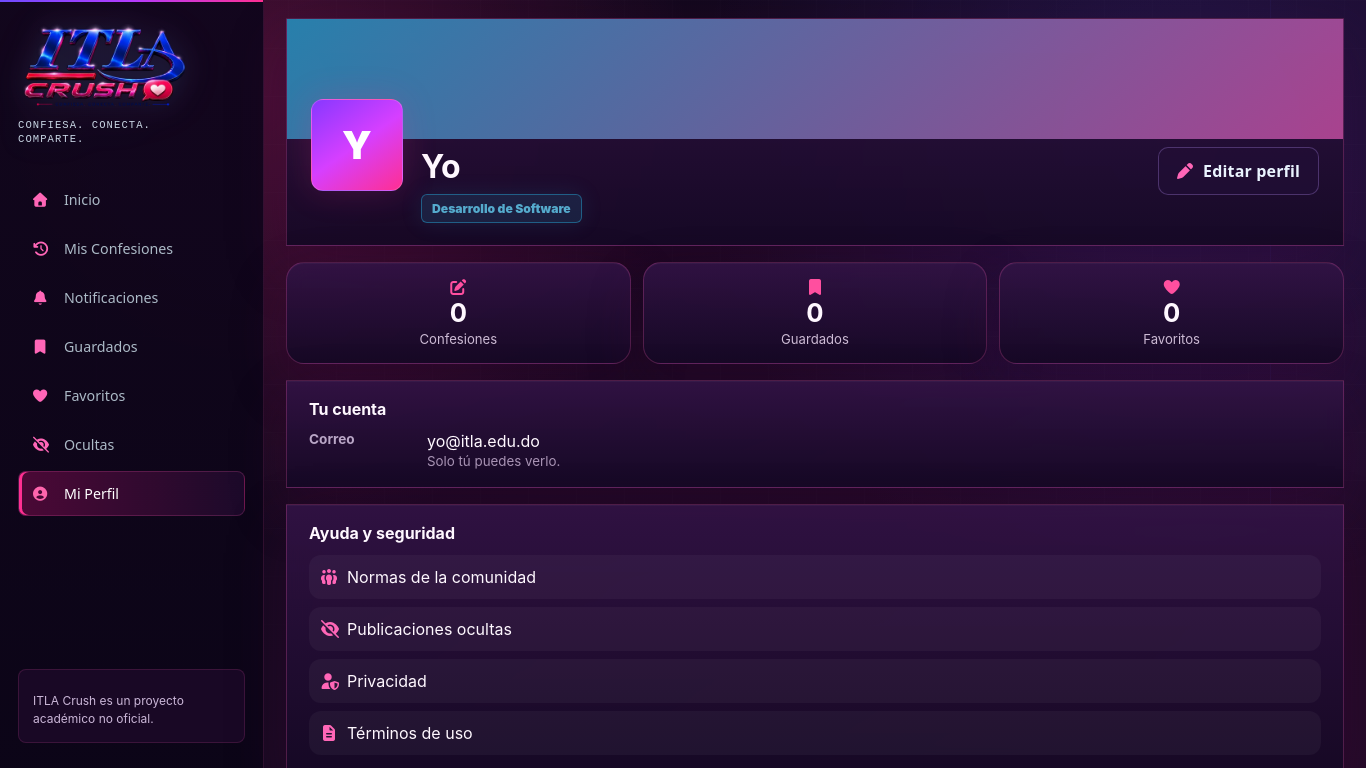
fase 2: perfil › edita el nombre y el tecnólogo y confirma el cambio
The image size is (1366, 768).
Click the button "Editar perfil" at (1239, 171), box x1=1158 y1=147 x2=1319 y2=195
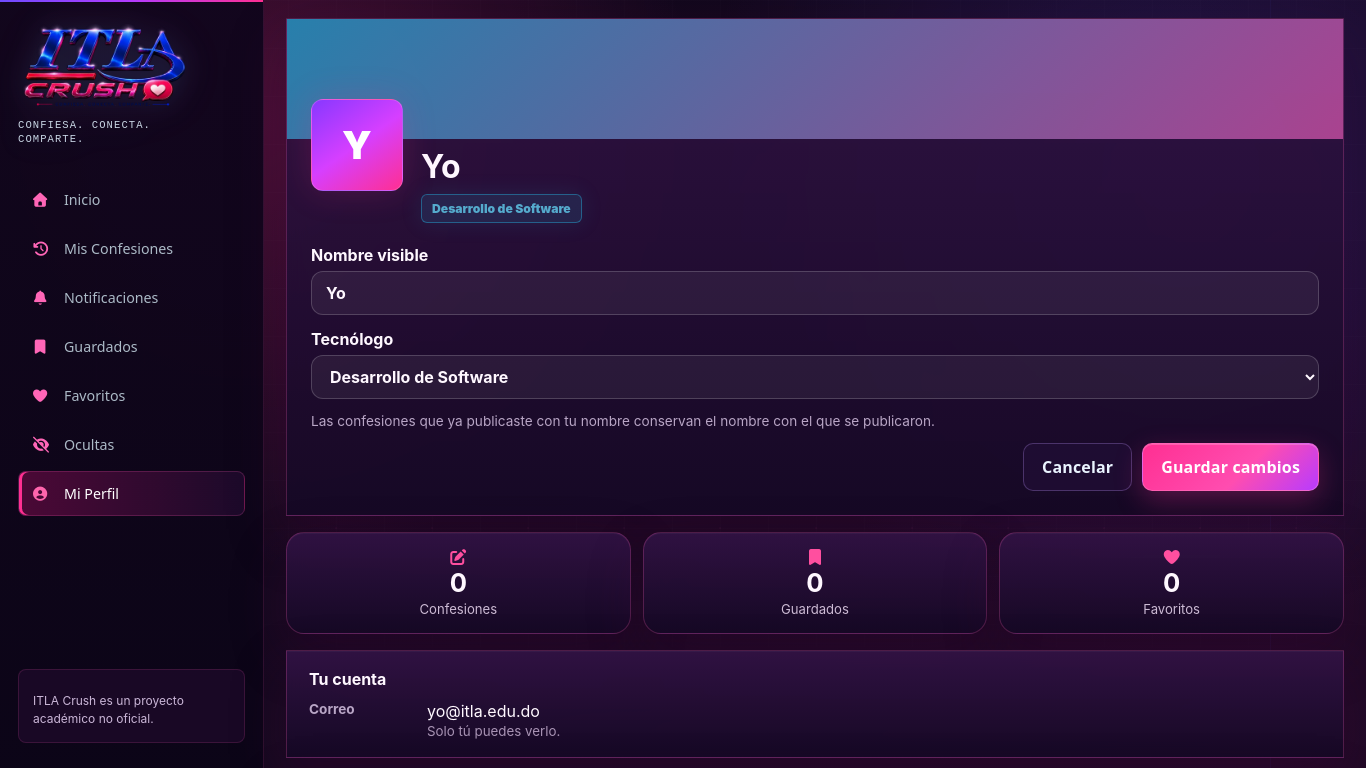
Replace the text in the field labelled "Nombre visible" with "Jairo M." at (815, 293), box x1=311 y1=271 x2=1319 y2=315
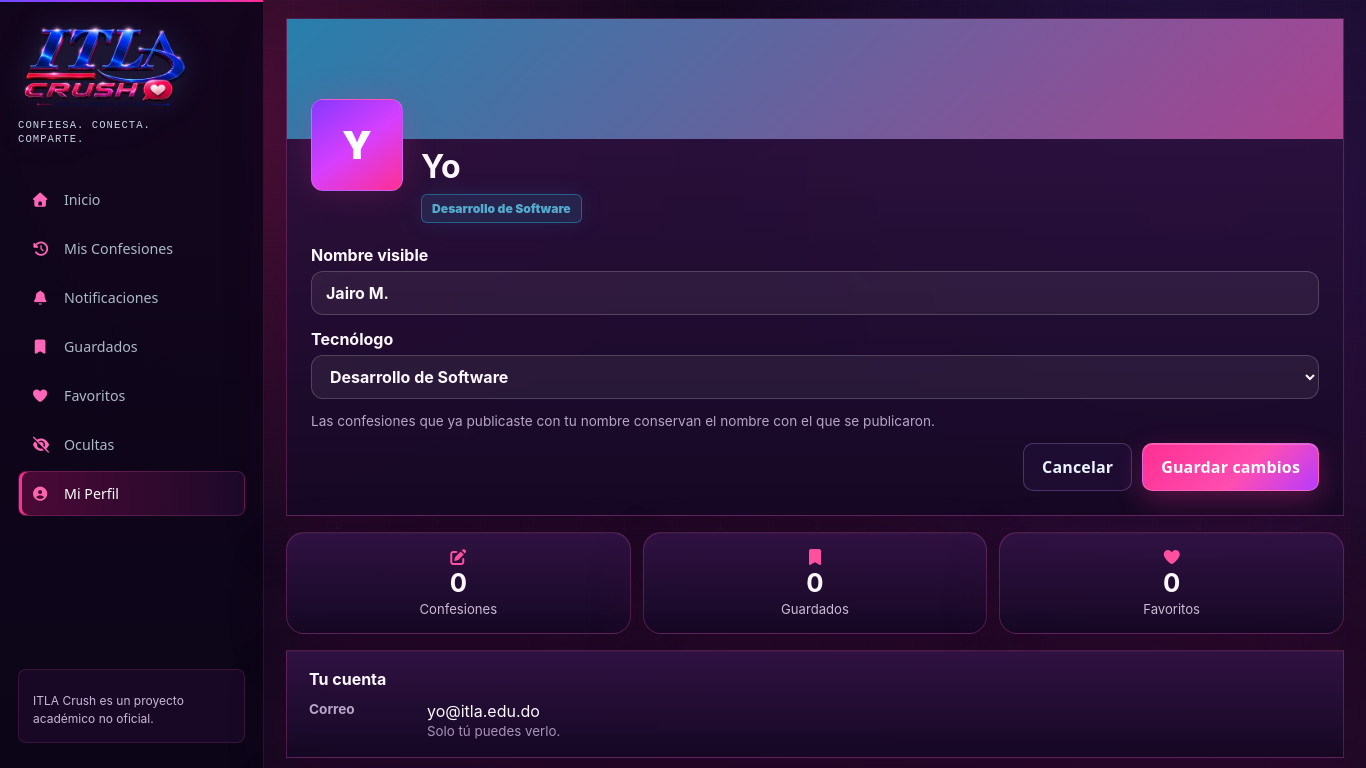
Select "Multimedia" in the dropdown labelled "Tecnólogo" at (815, 377), box x1=311 y1=355 x2=1319 y2=399
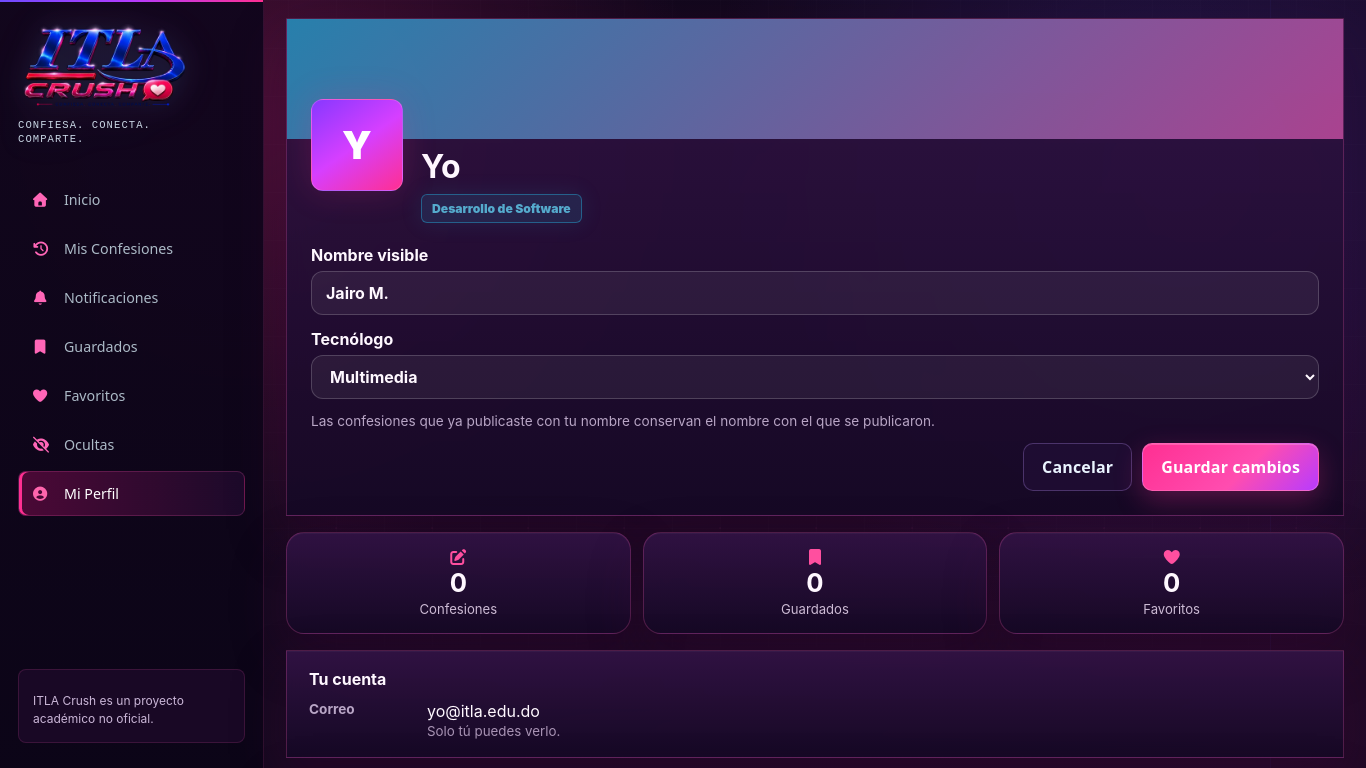
Click the button "Guardar cambios" at (1231, 467), box x1=1142 y1=443 x2=1319 y2=491
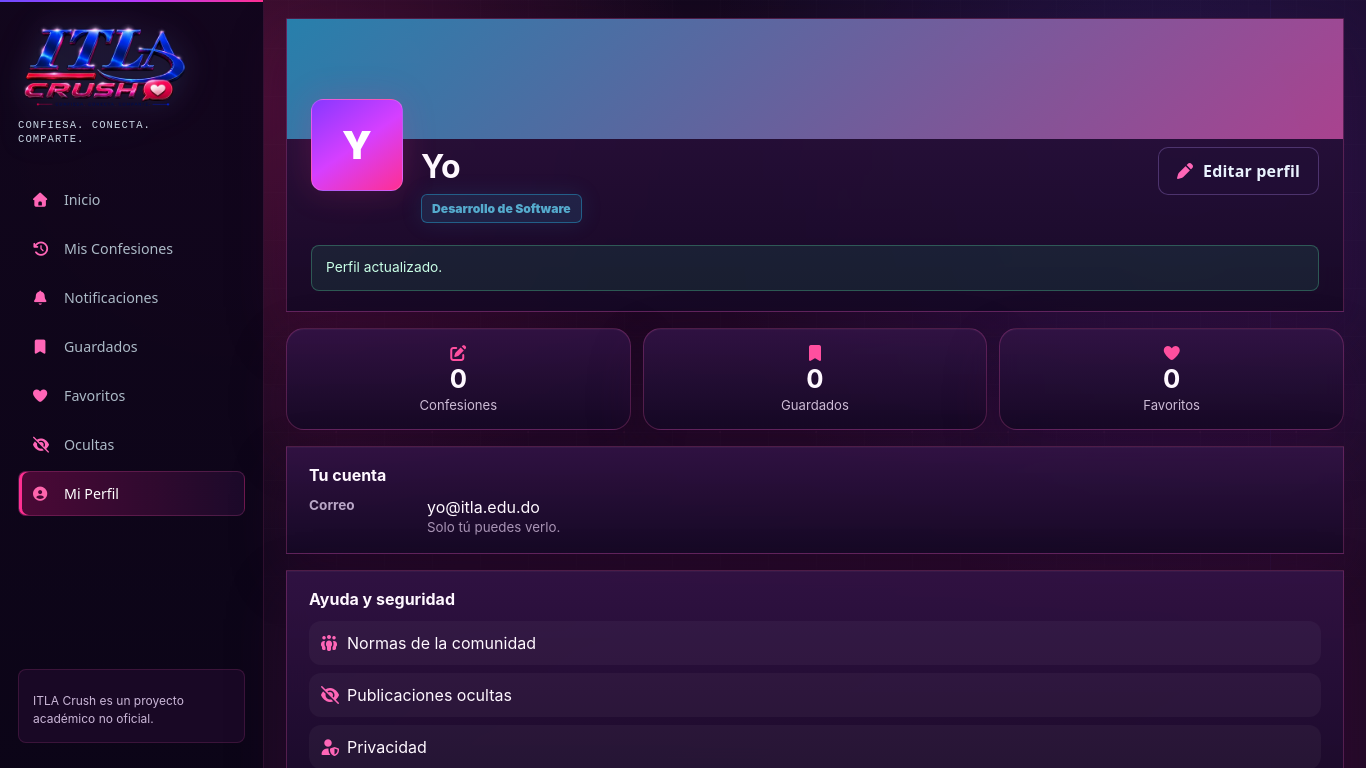
Now the text "Perfil actualizado." is shown, box x1=311 y1=245 x2=1319 y2=291
Now the button "Guardar cambios" is gone
